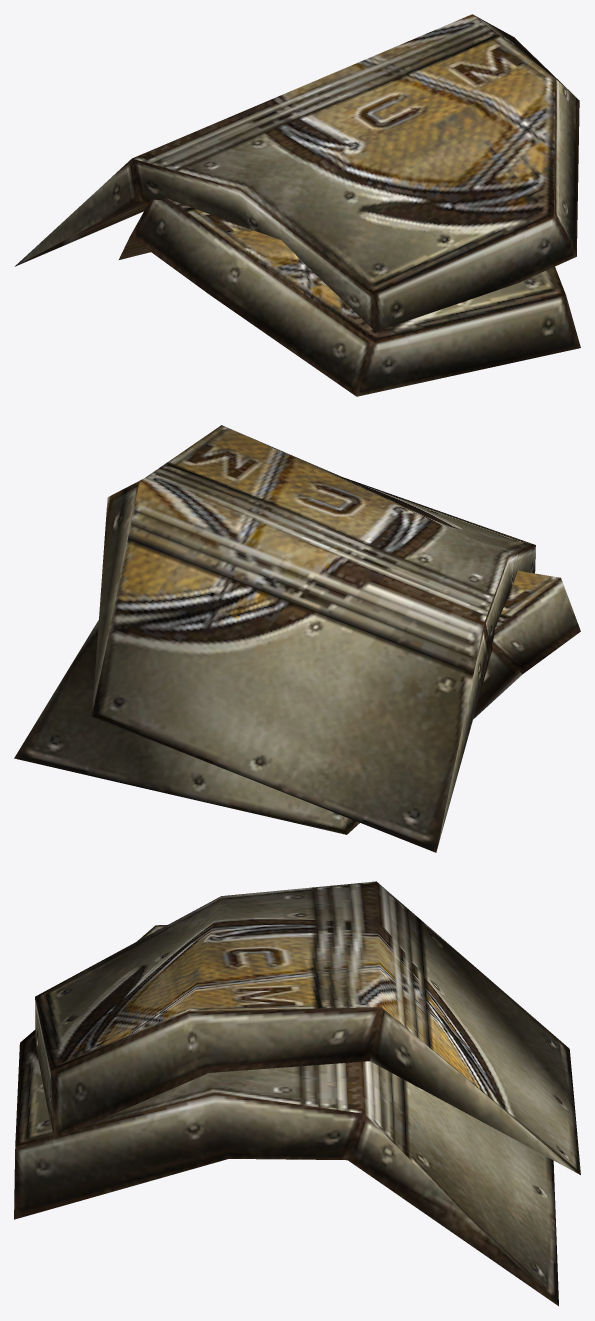
Rendered from ShoulderPads4__CMG.glb.
3 views of the same model, one above another, from view 1: azimuth 30°, elevation 25°; view 2: azimuth 150°, elevation 25°; view 3: azimuth 270°, elevation 25° (orthographic). The views are drawn at different scales.
Parts seen in each view (by area): view 1: ShoulderPads4; view 2: ShoulderPads4; view 3: ShoulderPads4.
Part boxes in pixels (x1,y1,x2,y2): ShoulderPads4: (14, 14, 580, 396); ShoulderPads4: (14, 425, 580, 852); ShoulderPads4: (14, 881, 580, 1306).
Size of the model in its own units: 10.24 by 5.34 by 10.11.
Materials: 1 (1 with a texture image).
